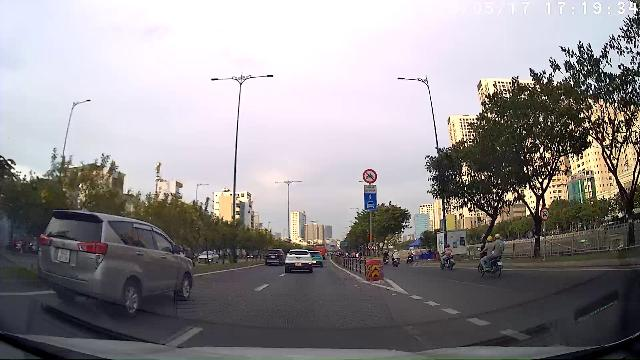103a-cam-oto: (540, 207, 550, 221)
